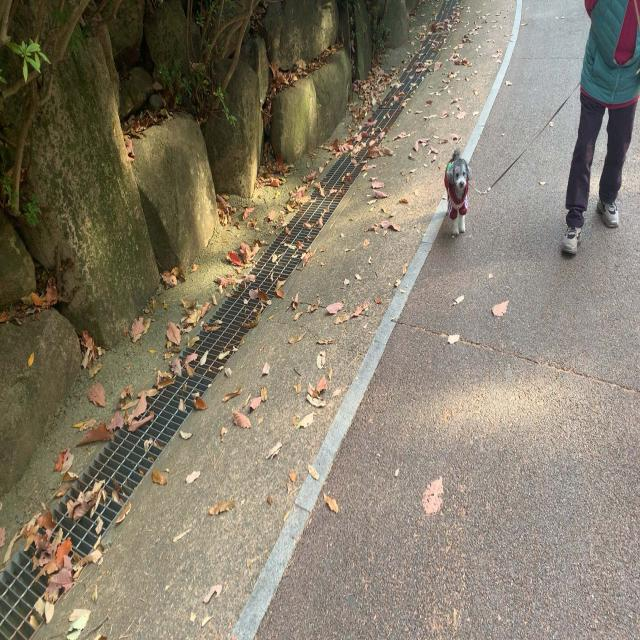Leashed_Dog: (444, 57, 606, 237)
